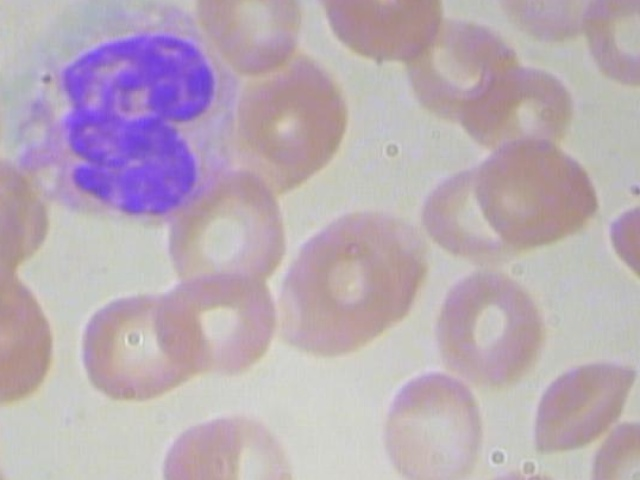RBC: (141, 167, 290, 302), (77, 273, 225, 407), (266, 232, 412, 366), (472, 134, 602, 245), (429, 264, 548, 381), (522, 342, 639, 459), (373, 371, 492, 480), (315, 0, 454, 72), (188, 0, 304, 78), (147, 408, 249, 480), (491, 0, 612, 46), (0, 66, 17, 192), (0, 0, 18, 22), (0, 382, 4, 480)
WBC: (0, 0, 253, 223)
